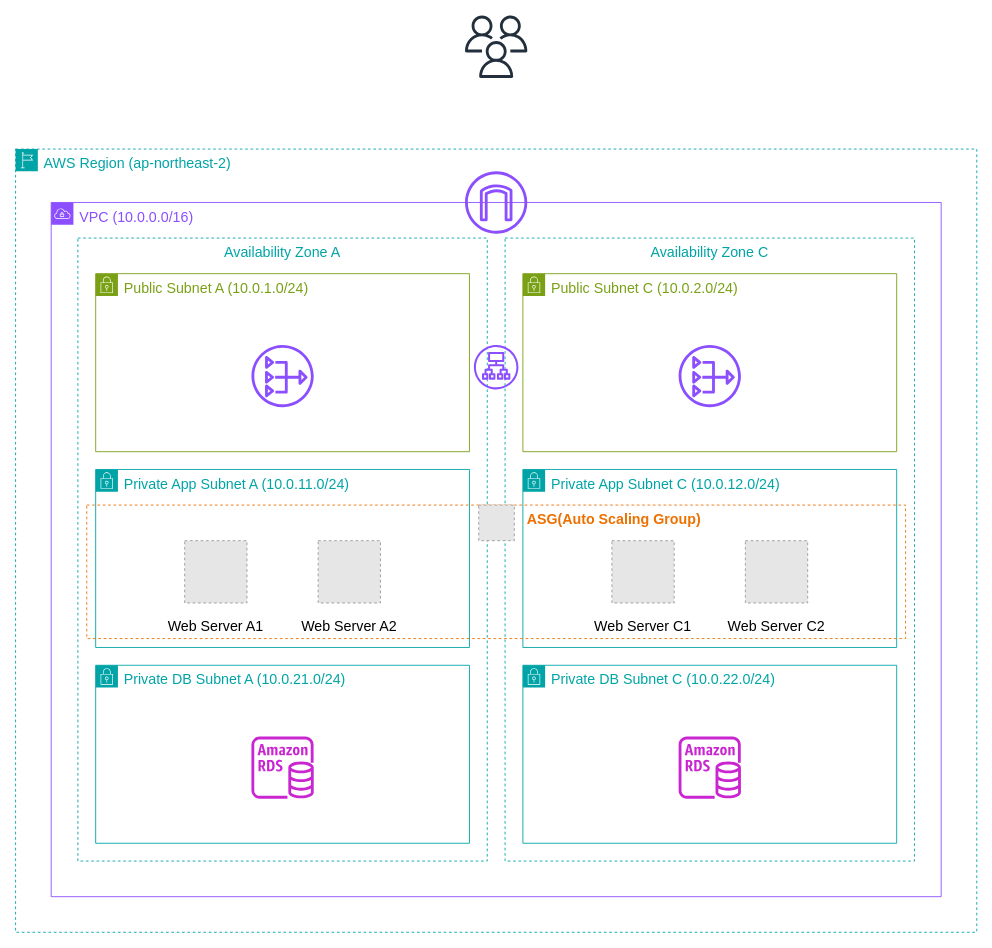
Image size: 992x948. Some labels were removed from this diagram. Grey dashed boxes stand in for pictures. The shapes that lost their labels are listed below. From the top down, each one's centre as x and y in pixels, then its label:
At point 496,46: "Users".
At point 496,202: "IGW(Internet Gateway)".
At point 282,375: "NAT Gateway A".
At point 495,366: "ALB (Application Load Balancer)".
At point 709,375: "NAT Gateway C".
At point 282,767: "RDS Primary".
At point 709,767: "RDS Standby".
